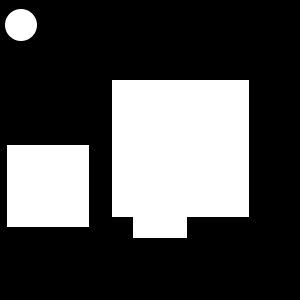circle: (112, 80, 249, 217), (7, 145, 89, 227), (133, 184, 187, 238)
rectangle: (5, 9, 37, 41), (214, 172, 230, 188)
